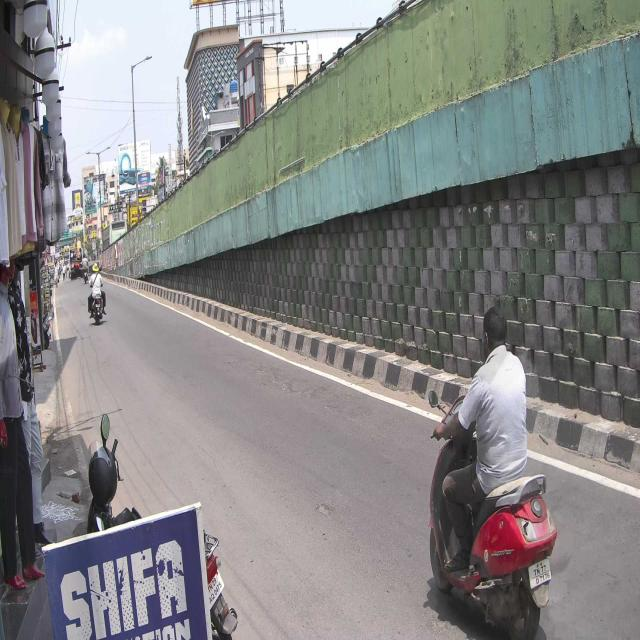single_rider: (427, 304, 557, 640)
